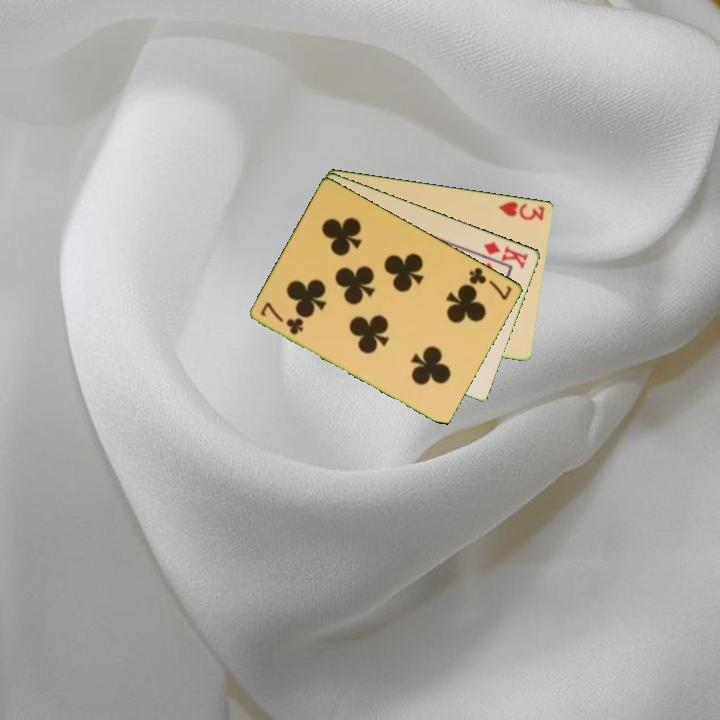3h: (495, 198, 548, 223)
7c: (257, 298, 307, 338), (466, 264, 515, 303)
Kd: (480, 238, 531, 272)
